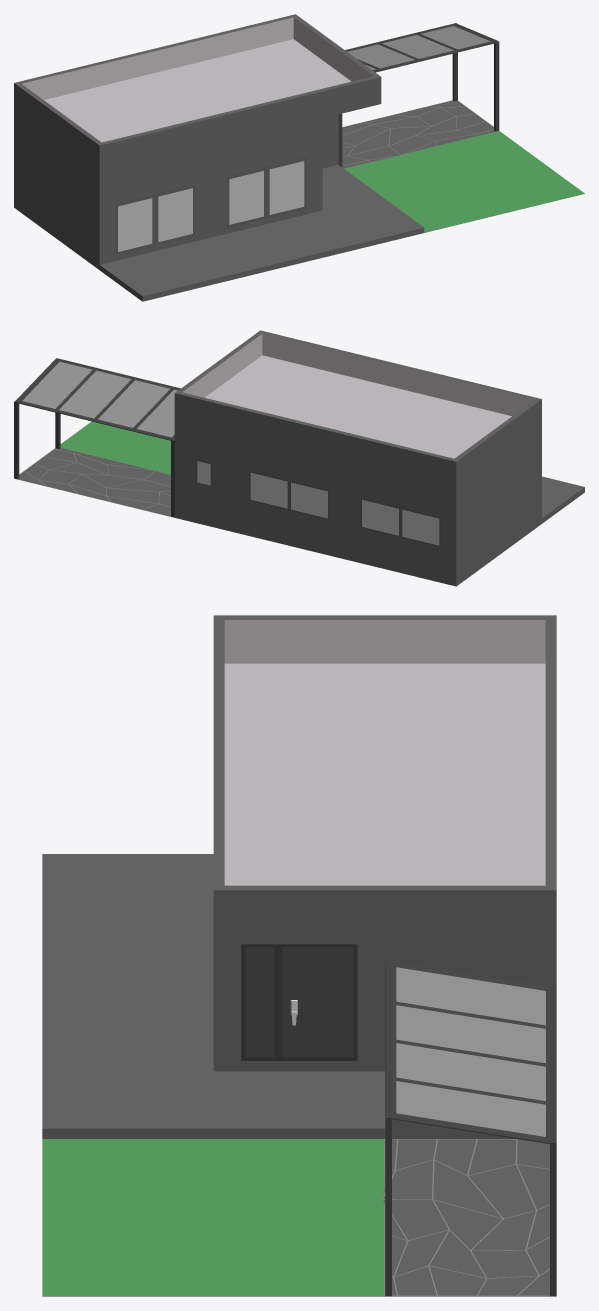
Rendered from house_a3.fbx.
The picture shows the model from 3 angles, top to bottom: view 1: azimuth 30°, elevation 25°; view 2: azimuth 150°, elevation 25°; view 3: azimuth 270°, elevation 25°; orthographic projection. The views are drawn at different scales.
Visible parts, largest first — view 1: house, garage.floor, garage; view 2: house, garage.floor, garage; view 3: house, garage.floor, garage.
Boxes of the visible parts, bbox=[...] form: house: bbox=[14, 14, 424, 301]; garage.floor: bbox=[342, 100, 584, 232]; garage: bbox=[338, 23, 499, 166]; house: bbox=[174, 330, 584, 586]; garage.floor: bbox=[14, 421, 174, 517]; garage: bbox=[14, 358, 180, 517]; house: bbox=[42, 615, 556, 1138]; garage.floor: bbox=[42, 1139, 556, 1296]; garage: bbox=[385, 961, 556, 1296].
Size of the model in its own units: 14.89 by 4.01 by 7.5.
